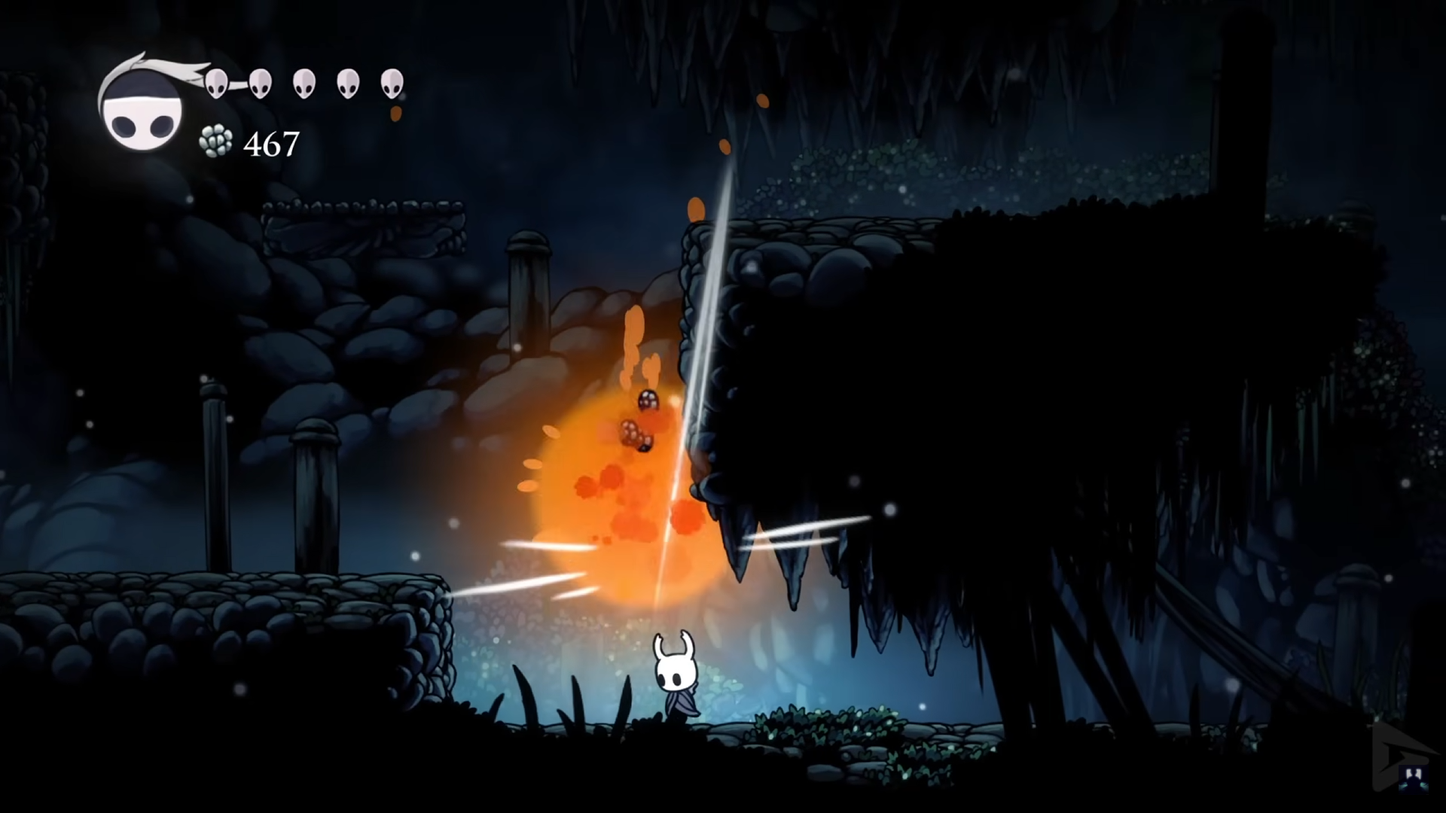HK: (649, 628, 705, 723)
